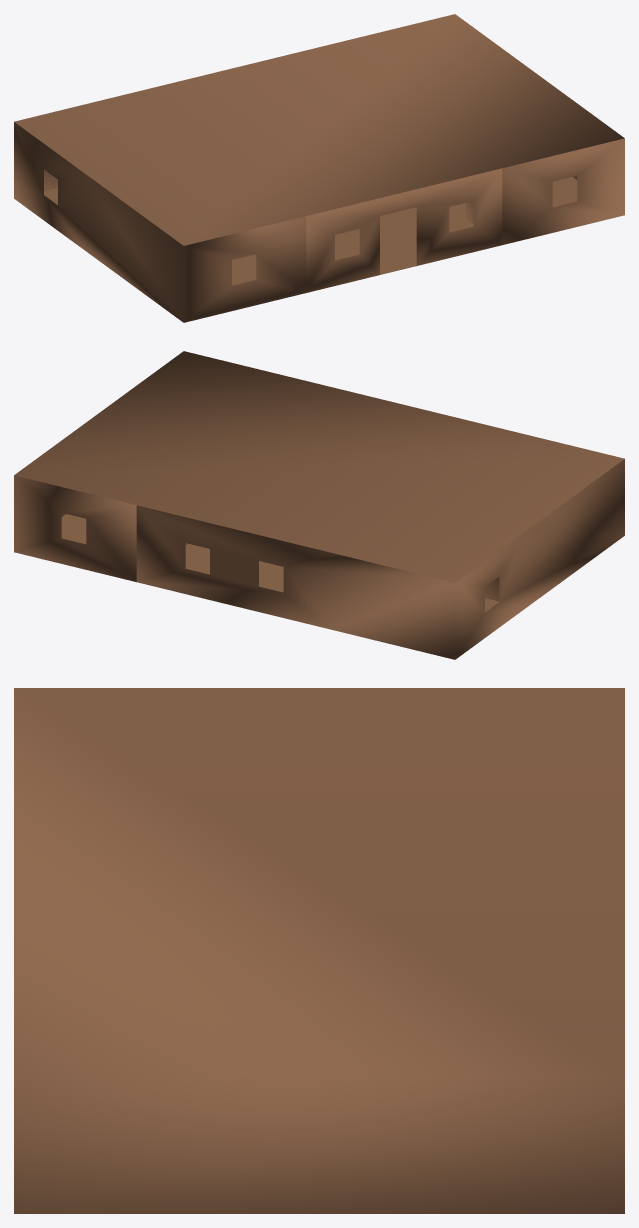
The model's file is camp_house_base.glb.
3 views of the same model, one above another, from view 1: azimuth 30°, elevation 25°; view 2: azimuth 150°, elevation 25°; view 3: azimuth 270°, elevation 25° (orthographic). The views are drawn at different scales.
Parts seen in each view (by area): view 1: CampHouseWalls; view 2: CampHouseWalls; view 3: CampHouseWalls.
Boxes of the visible parts, <box> form: CampHouseWalls: <box>14,14,624,322</box>; CampHouseWalls: <box>14,351,624,659</box>; CampHouseWalls: <box>14,688,624,1213</box>.
Size of the model in its own units: 18 by 3 by 12.
